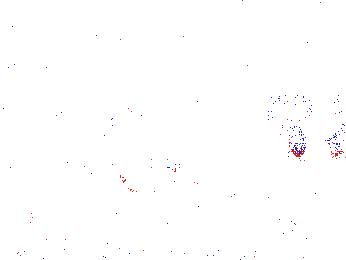flame jellyfish: (270, 172, 346, 228), (264, 86, 314, 155), (116, 148, 184, 194)
